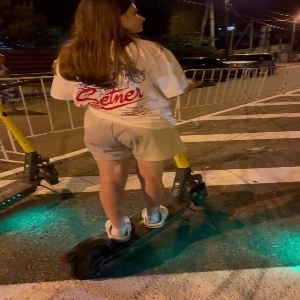human on a scooter: (47, 1, 217, 280)
